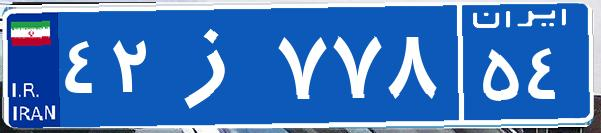2: (110, 28, 158, 105)
4: (57, 26, 110, 107), (525, 38, 570, 115)
5: (475, 38, 525, 113)
7: (273, 28, 330, 110), (330, 28, 385, 110)
8: (385, 28, 445, 110)
ز: (158, 15, 273, 115)
